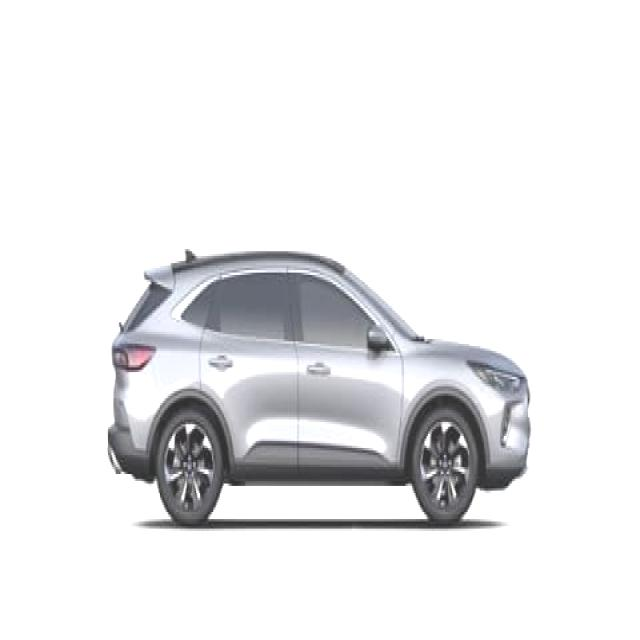SUV: (105, 248, 535, 530)
